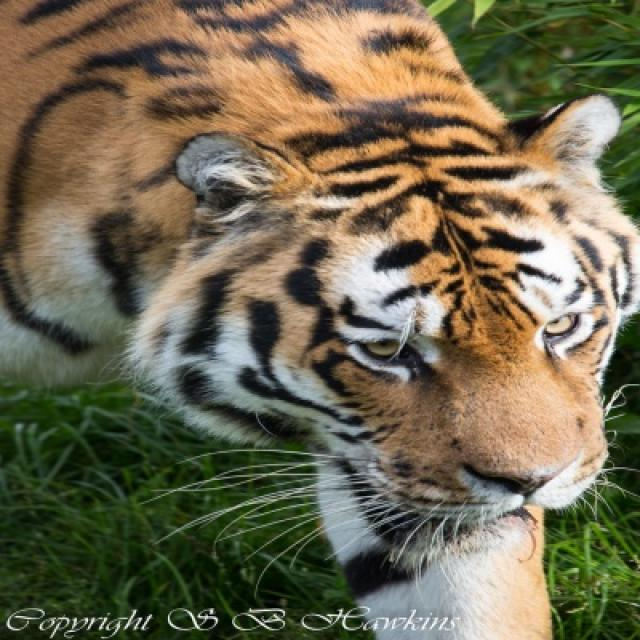Tiger: (0, 0, 634, 638)
